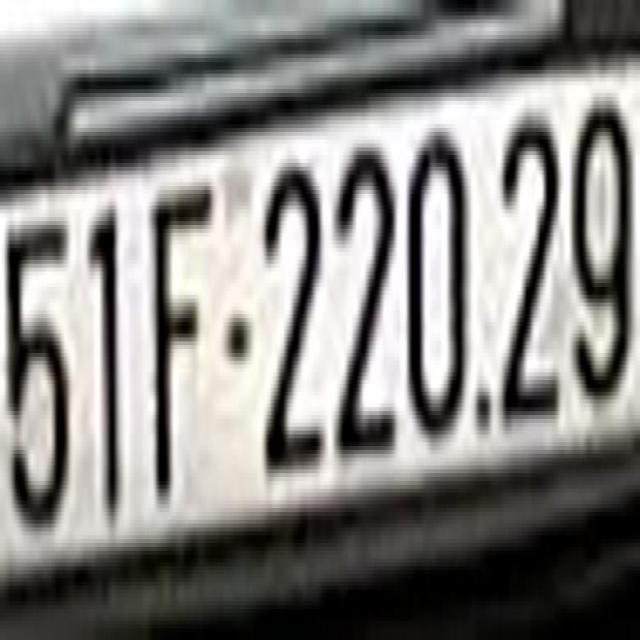0: (407, 89, 466, 419)
1: (91, 202, 128, 512)
2: (258, 143, 326, 481), (336, 128, 396, 454), (498, 108, 560, 412)
5: (6, 198, 78, 551)
9: (574, 101, 631, 419)
F: (150, 186, 213, 512)
